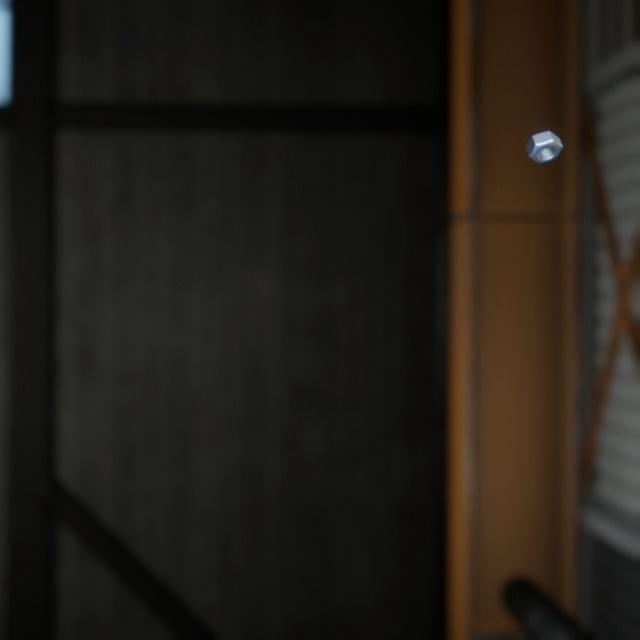nut: (520, 112, 567, 156)
